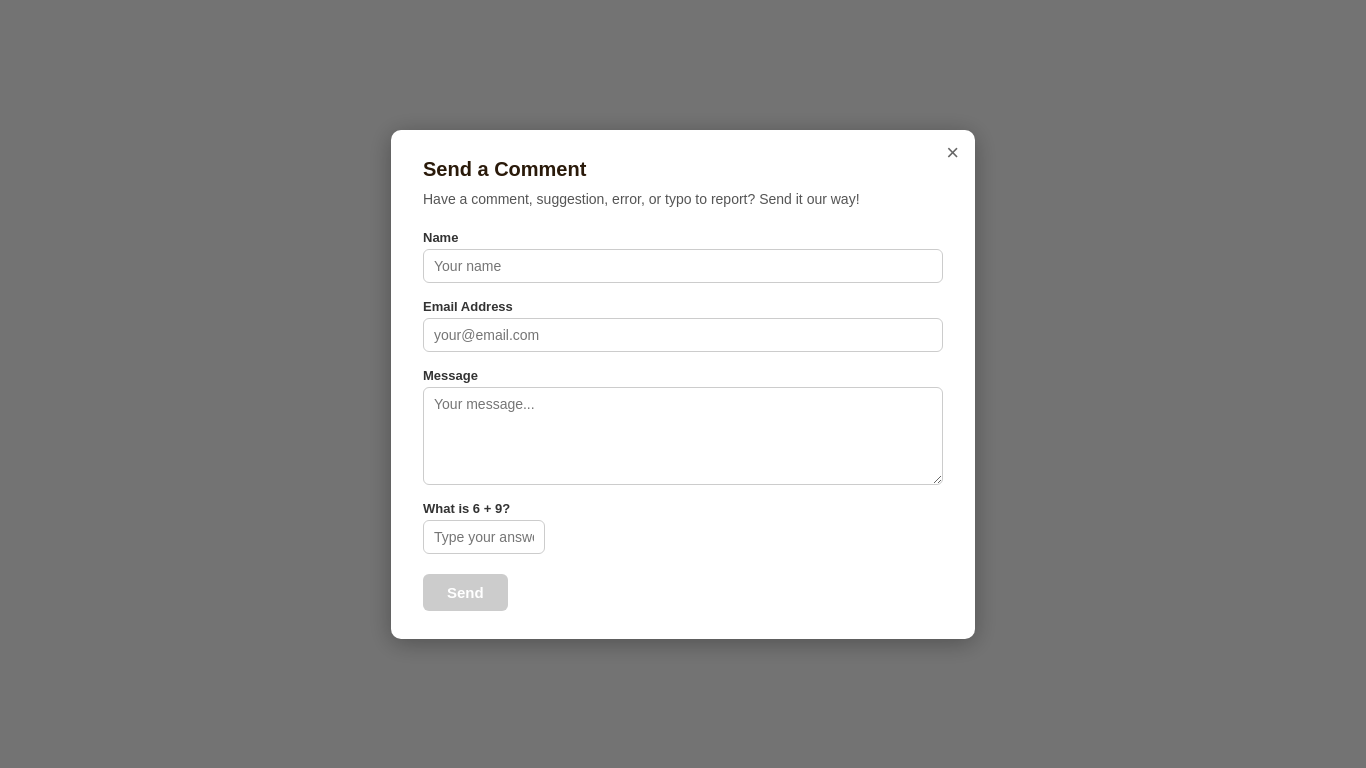
submits the form and shows a success message on a successful response
Type "Drizzt" into the field labelled "Name" at (683, 266), box [423,248,943,282]
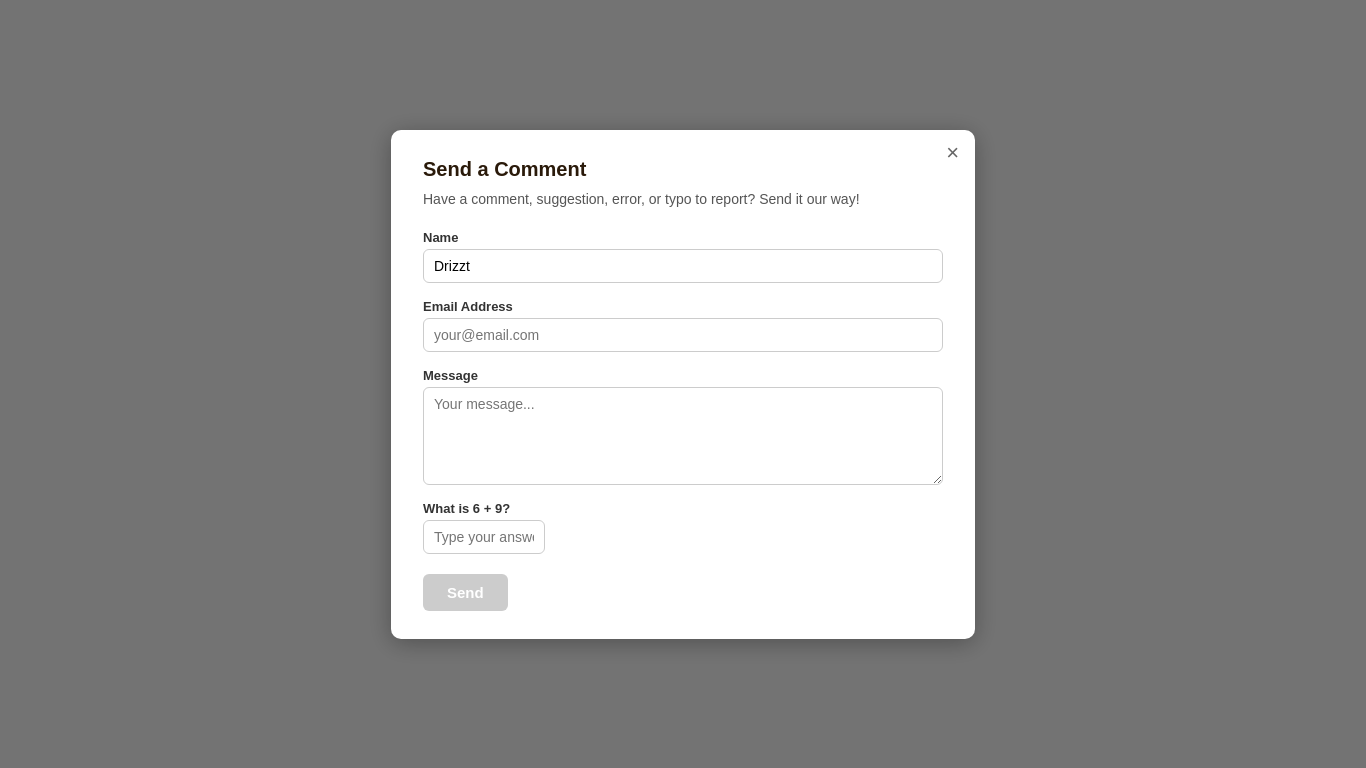
Type "drizzt@menzo.com" into the field labelled "Email Address" at (683, 334), box [423,318,943,352]
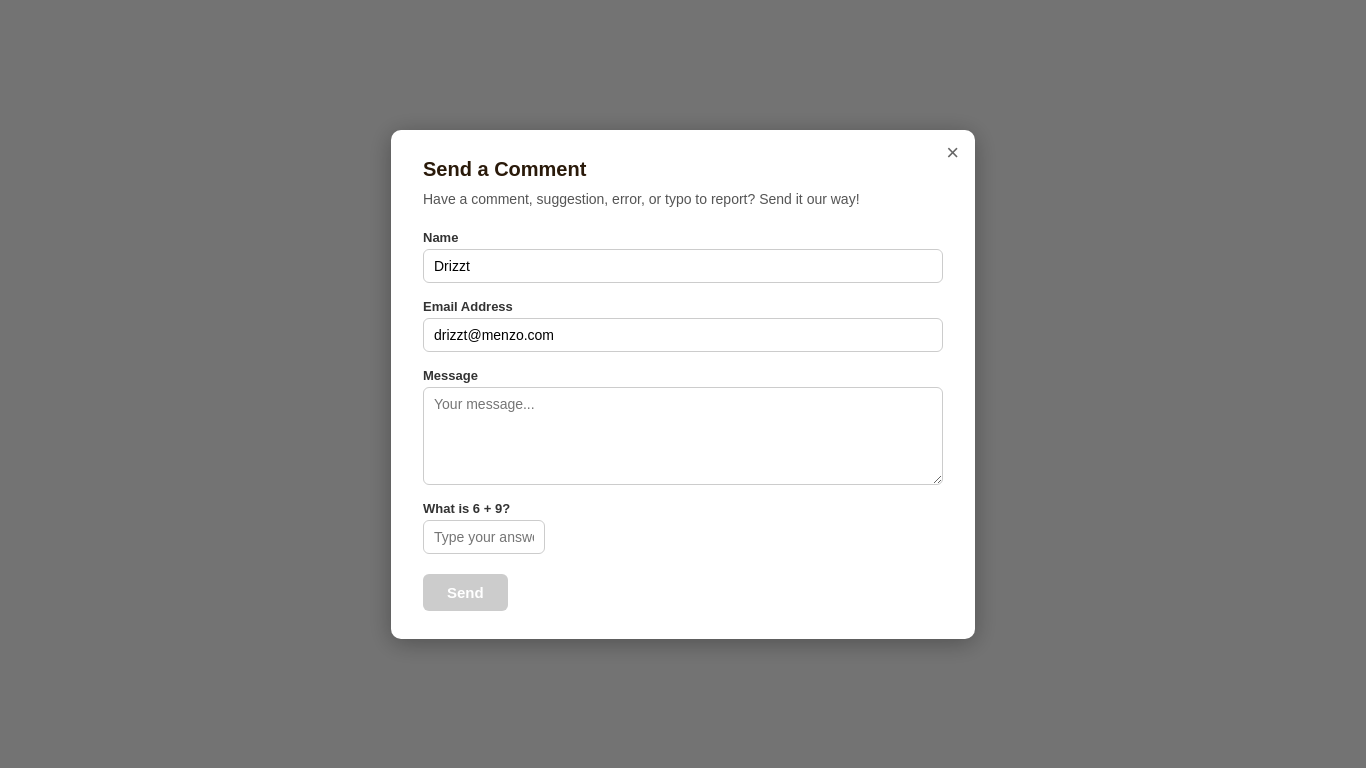
Type "Hello there" into the text box labelled "Message" at (683, 436), box [423,386,943,484]
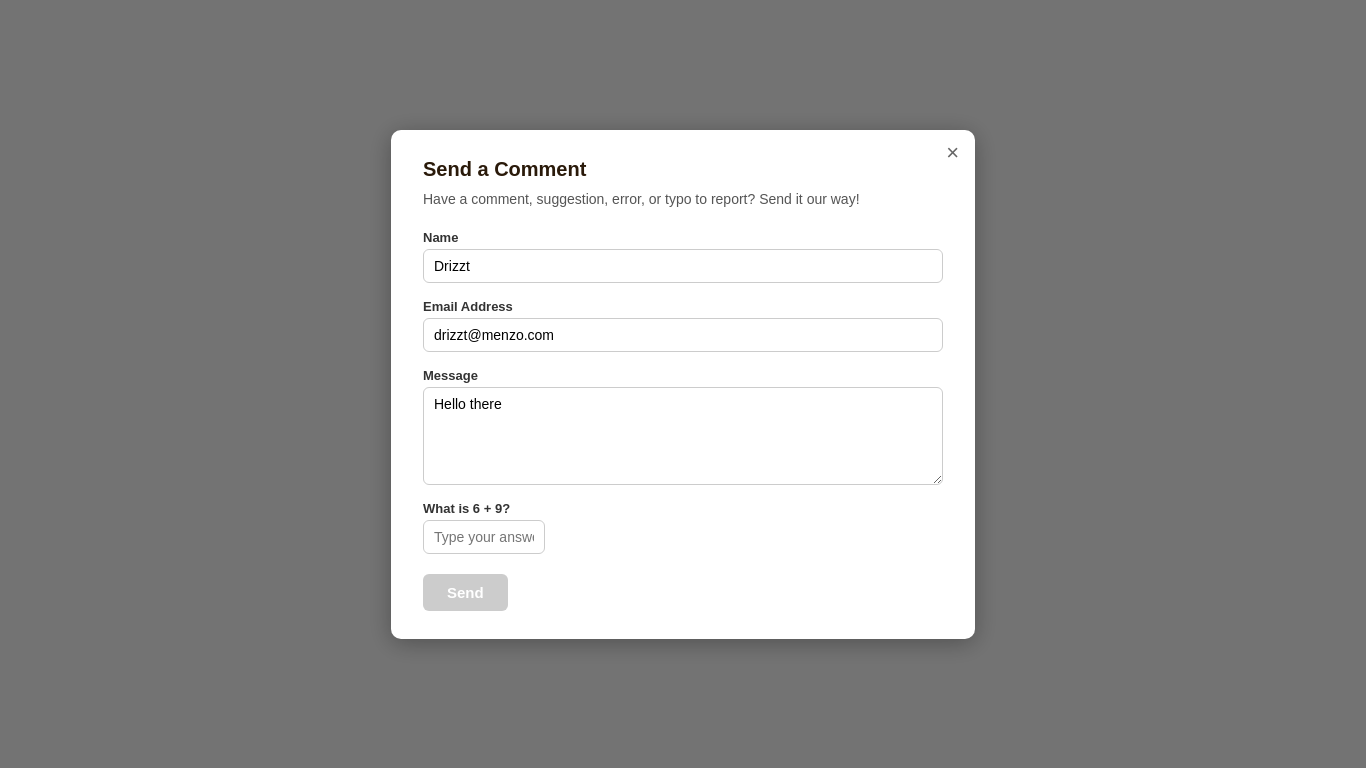
Type "15" into the field labelled "What is 6 + 9?" at (484, 536), box [423,520,545,554]
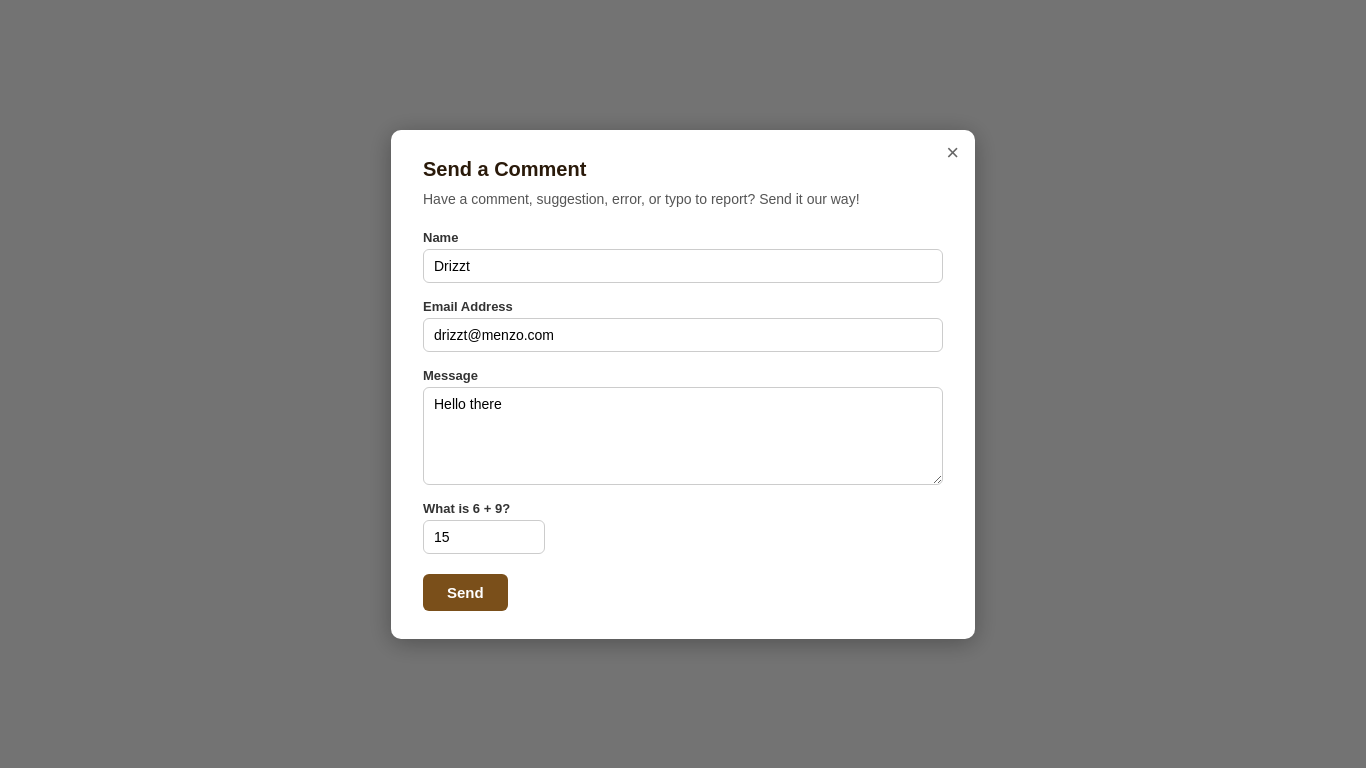
Click the button "Send" at (465, 592), box [423,574,508,610]
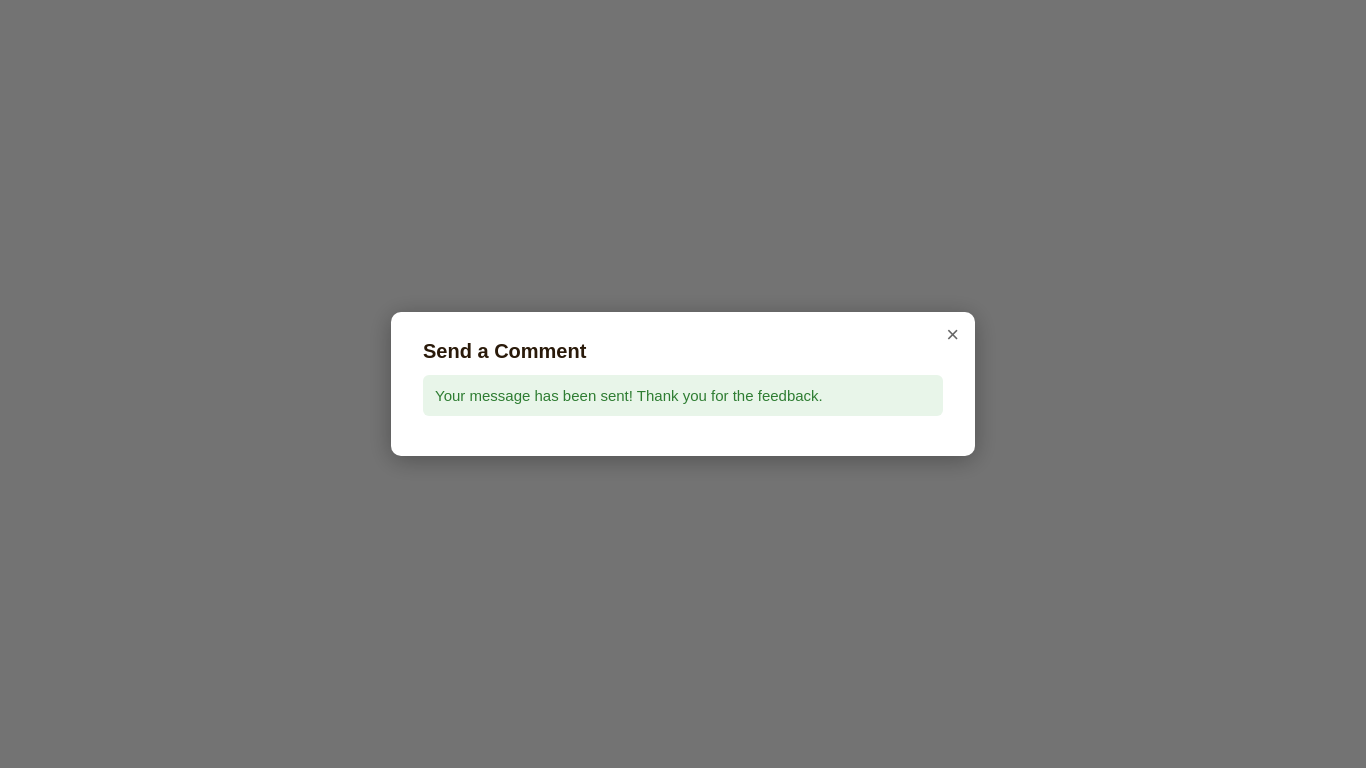
Check: the text "Your message has been sent! Thank you for the feedback." is shown, box [423,375,943,416]
